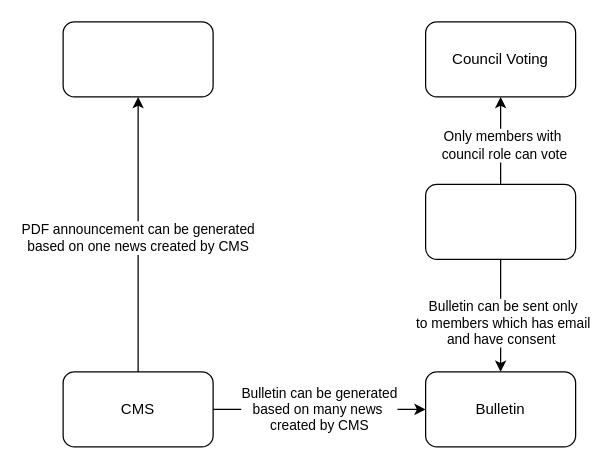
This 611x469 diagram has some shape labels left out. The centre of each missing label's shape, as x and y in pixels:
Announcement Generator: the point at 137,59
Community Members: the point at 500,221
